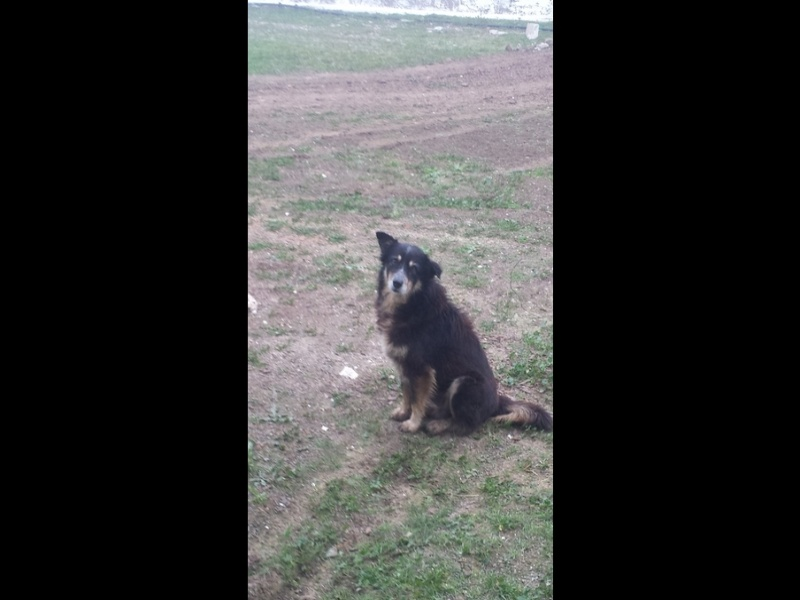dog: (372, 229, 549, 439)
